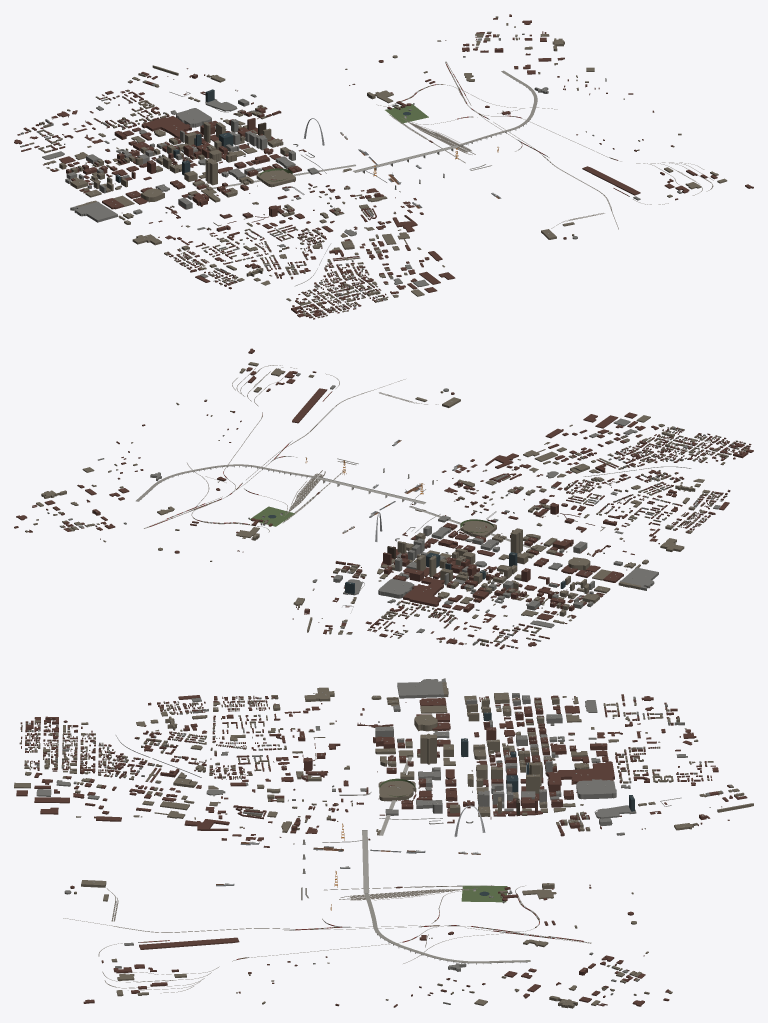
File: city.glb
3 renders of one model, top to bottom at view 1: azimuth 30°, elevation 25°; view 2: azimuth 150°, elevation 25°; view 3: azimuth 270°, elevation 25°, orthographic. The views are drawn at different scales.
Visible parts, largest first — view 1: X_city; view 2: X_city; view 3: X_city.
Boxes of the visible parts, bbox=[...] form: X_city: bbox=[14, 14, 753, 319]; X_city: bbox=[14, 348, 753, 649]; X_city: bbox=[14, 678, 753, 1008].
Bounding box in the file's own units: 4649 × 203 × 4462.
